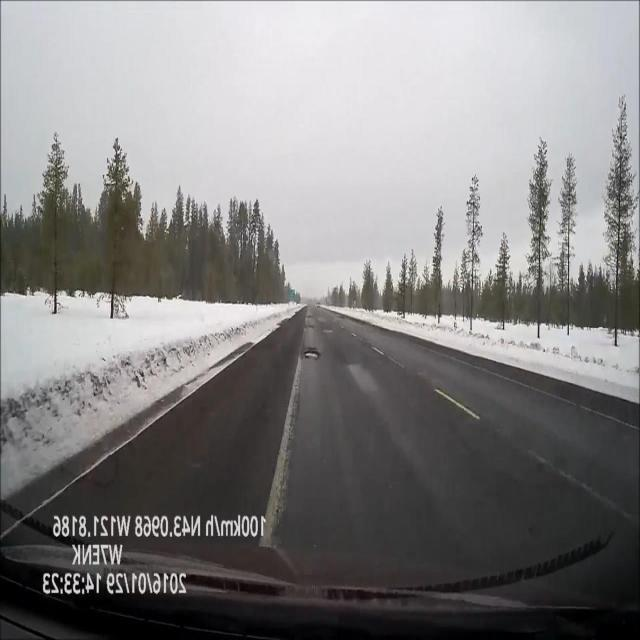Pothole: (301, 349, 321, 359)
